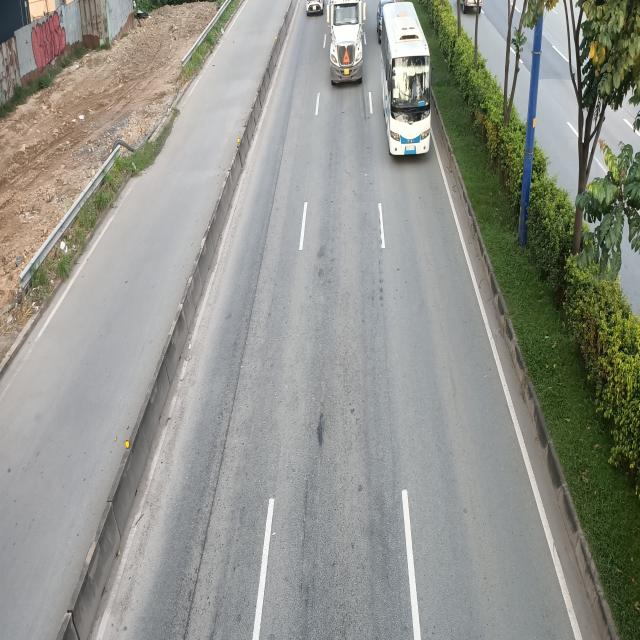coach: (376, 2, 432, 159)
container: (328, 0, 369, 83)
